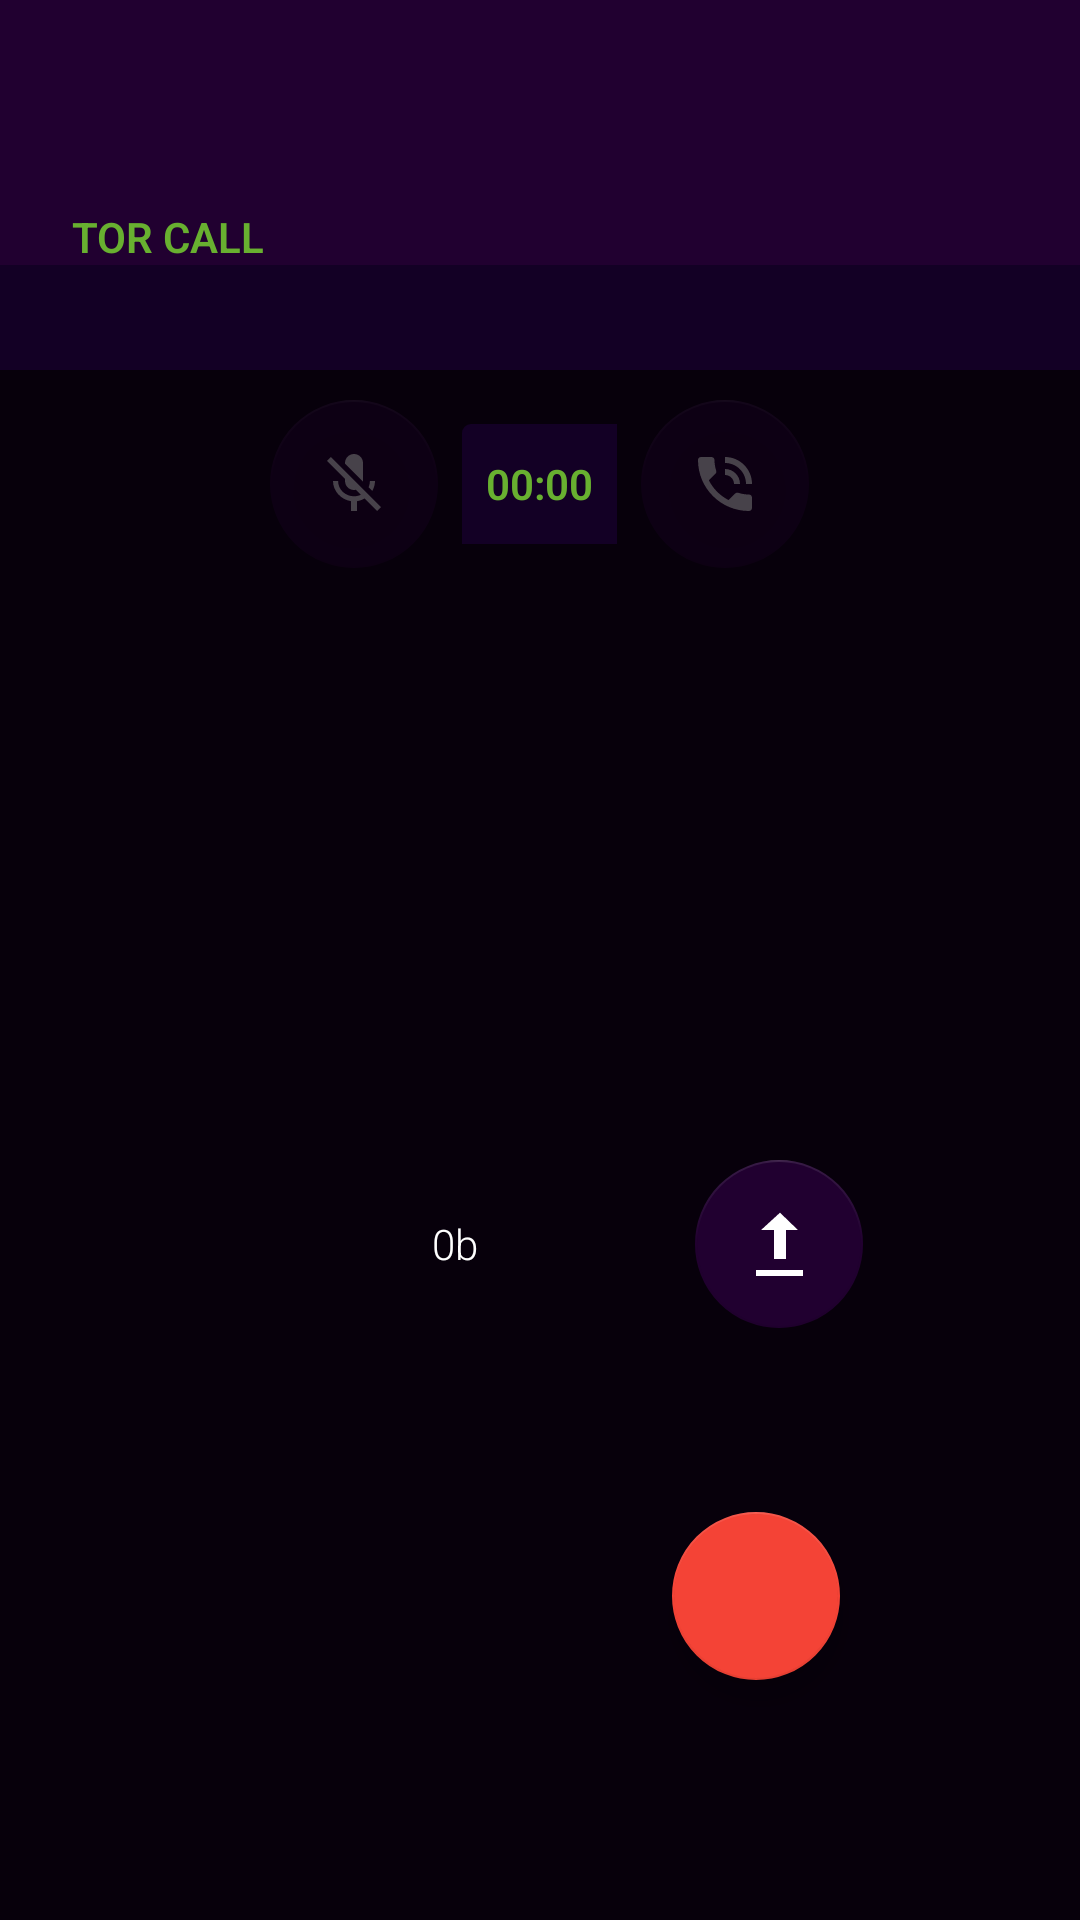

Point at icon controls on the screen. Image size 1080px x 1920px, points as (x,y).
call mute: (354,482)
speakerphone: (725,484)
upload: (779,1244)
